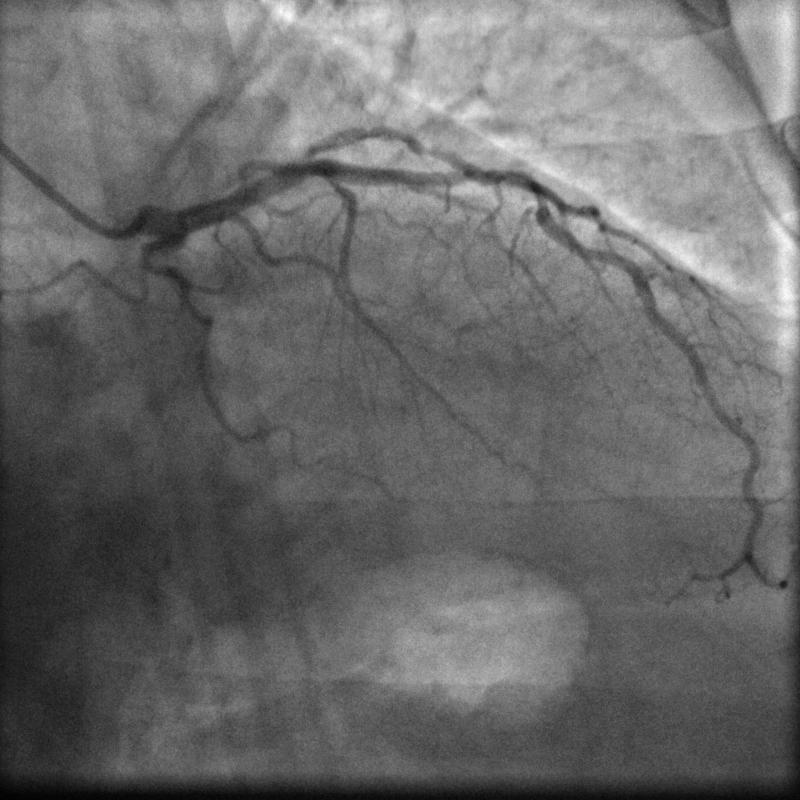Stenosis: (459, 165, 553, 205)
